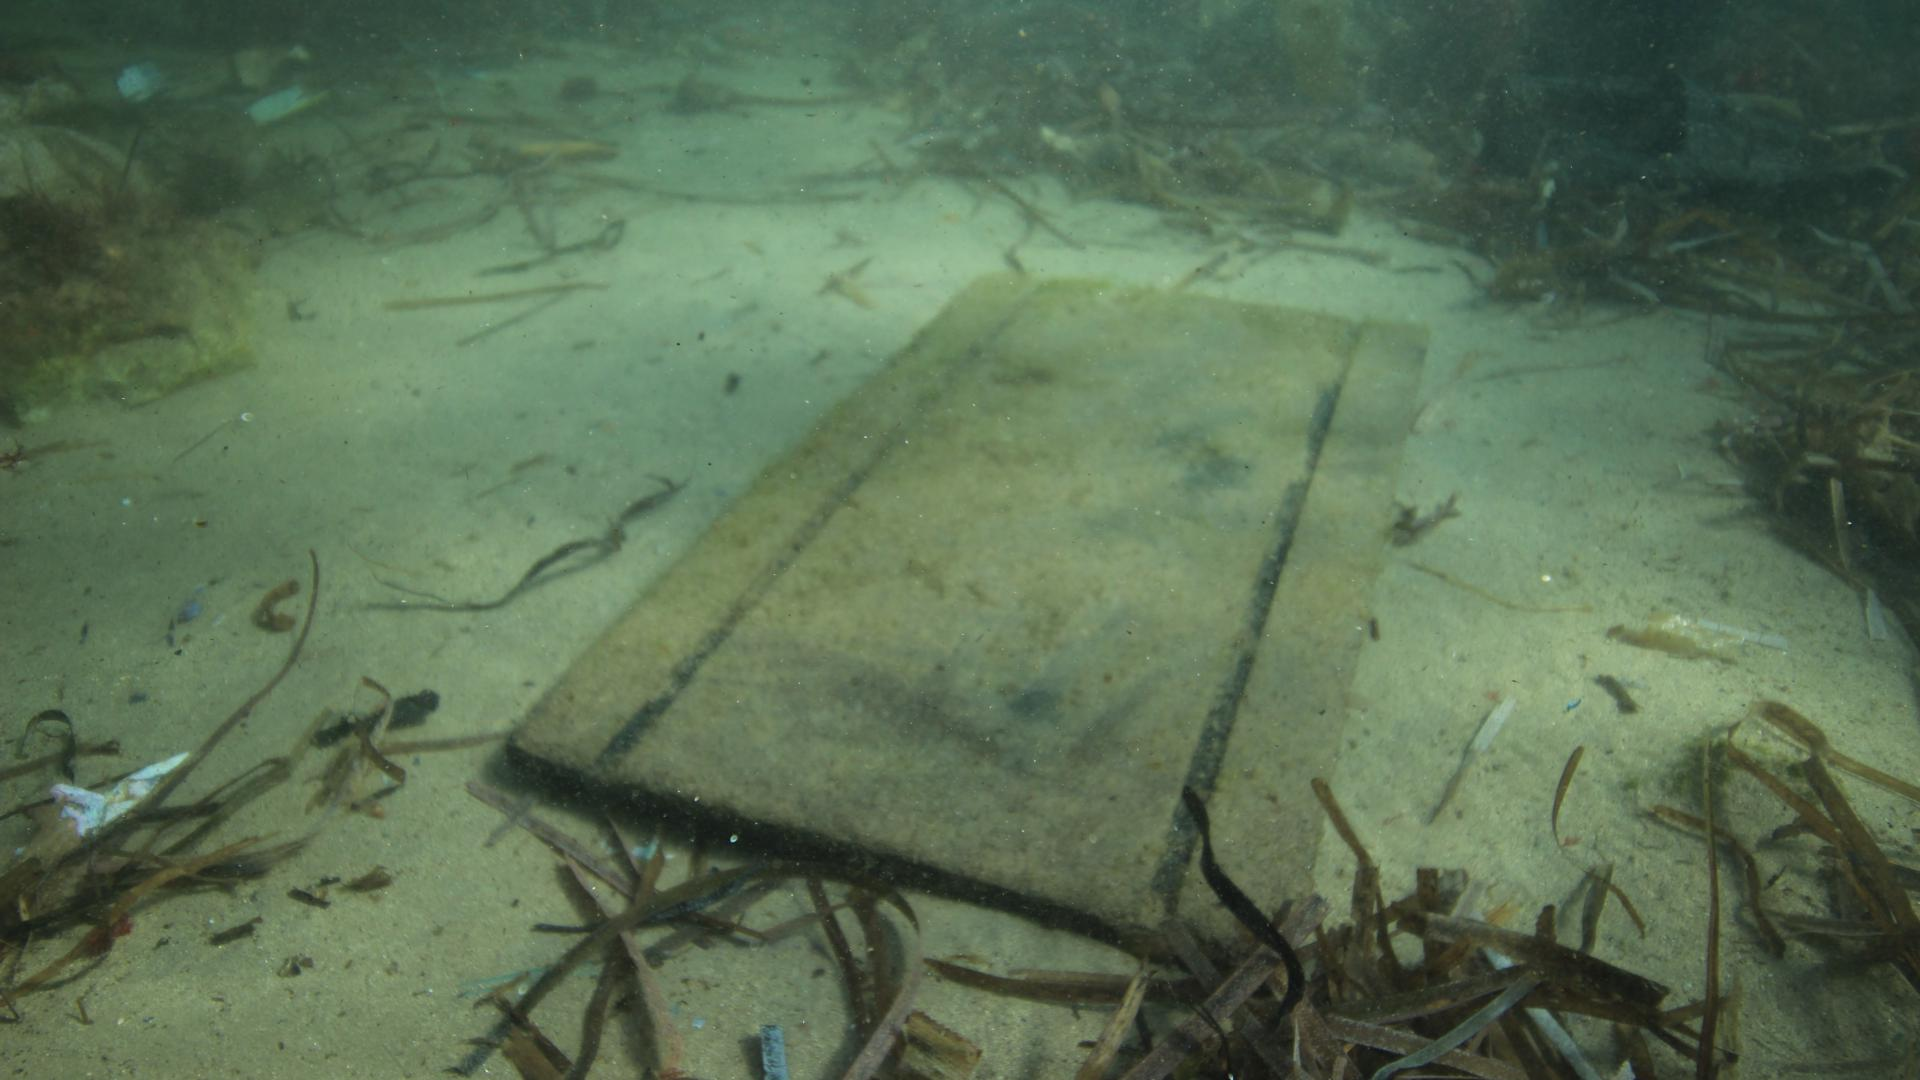wood: (501, 266, 1429, 963)
